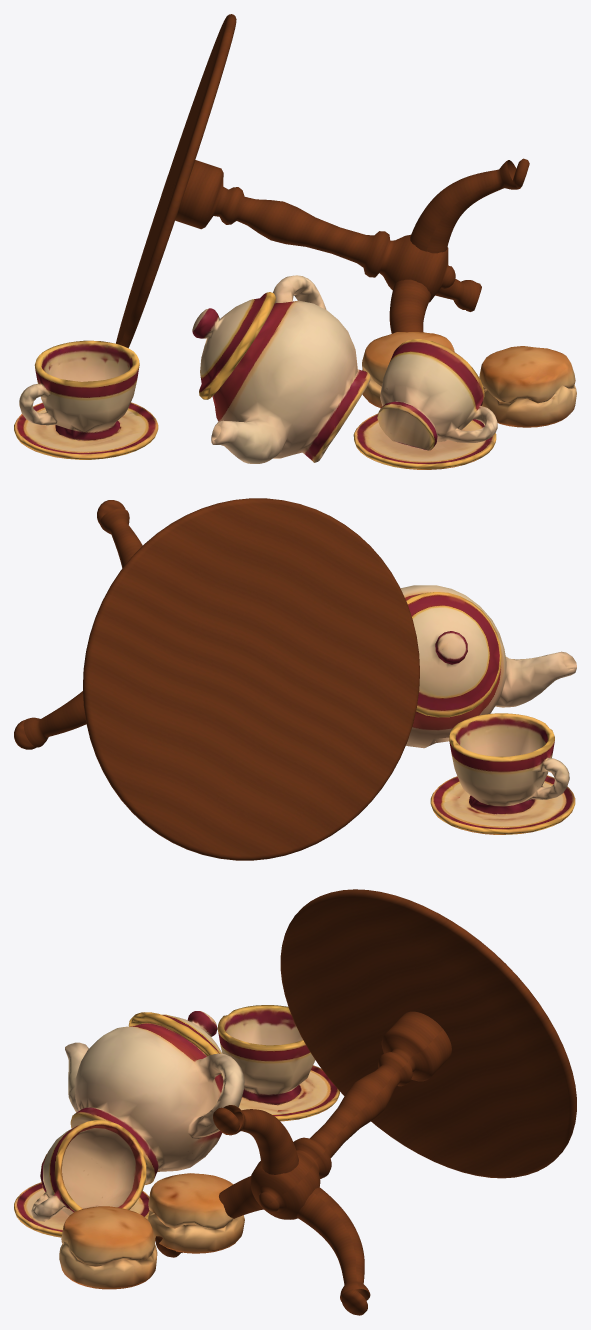
File: tea_table_set_v4.glb
3 renders of one model, top to bottom at view 1: azimuth 30°, elevation 25°; view 2: azimuth 150°, elevation 25°; view 3: azimuth 270°, elevation 25°, orthographic.
Parts seen in each view (by area): view 1: table, teapot, cup_a, cup_b, scone_1, saucer_b, saucer_a, scone_2; view 2: table, teapot, cup_b, saucer_b; view 3: table, teapot, cup_a, scone_1, cup_b, scone_2, saucer_b, saucer_a.
Boxes of the visible parts, box(x1,y1,x2,y2) form: table: box(116, 14, 529, 348); teapot: box(192, 275, 370, 463); cup_a: box(377, 339, 497, 450); cup_b: box(19, 340, 139, 440); scone_1: box(479, 346, 576, 427); saucer_b: box(14, 402, 158, 459); saucer_a: box(353, 413, 496, 469); scone_2: box(362, 332, 454, 408); table: box(14, 498, 419, 860); teapot: box(400, 585, 576, 748); cup_b: box(449, 713, 569, 814); saucer_b: box(430, 775, 575, 834); table: box(155, 889, 576, 1315); teapot: box(65, 1011, 244, 1185); cup_a: box(31, 1120, 146, 1221); scone_1: box(59, 1206, 157, 1289); cup_b: box(217, 1005, 315, 1104); scone_2: box(147, 1173, 244, 1253); saucer_b: box(238, 1065, 339, 1121); saucer_a: box(14, 1182, 149, 1237).
Size of the model in its own units: 1.18 by 0.7066 by 1.16.
2 materials, 2 textured.
